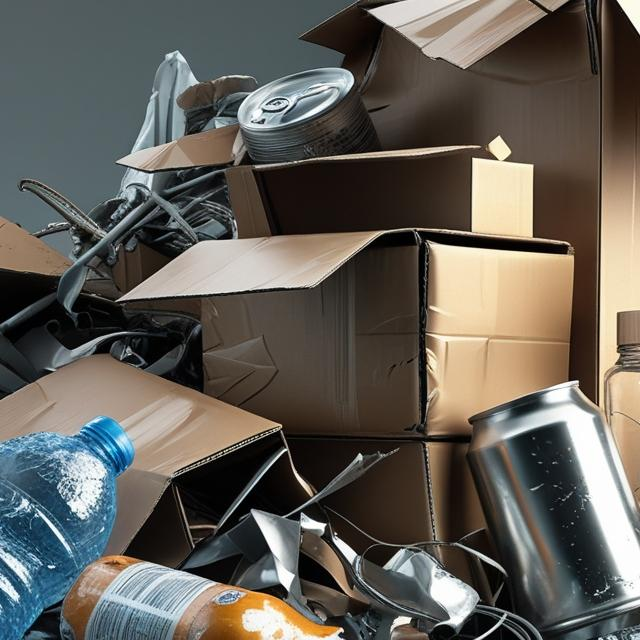metal: (410, 360, 640, 633), (216, 40, 400, 185), (360, 524, 497, 640)
plastic: (0, 415, 131, 640)
